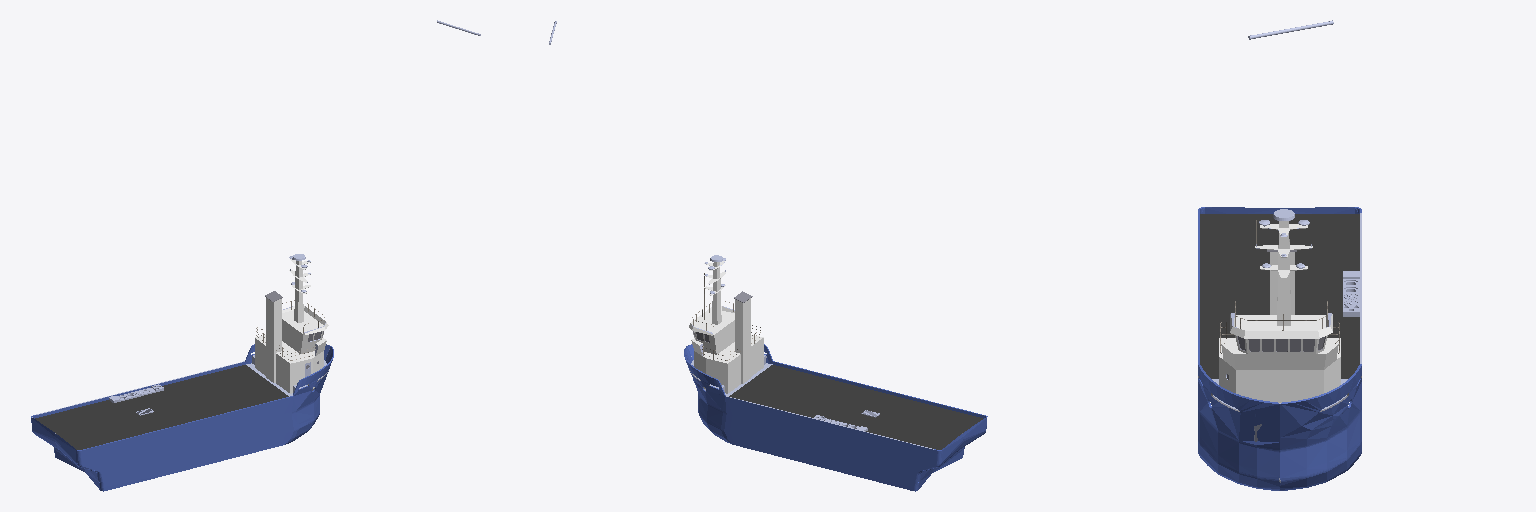
robot.urdf — ship:
<?xml version="1.0" ?>
<robot name="ship" xmlns:xacro="http://ros.org/wiki/xacro">

    <link name="ship_base_link">
        <visual>
            <geometry>
                <mesh filename="package://underwater_sim/models/meshes/ship/ship.dae" scale="0.0025 0.0025 0.0025"/>
            </geometry>
        </visual>

        <collision name="base_link_collision">
            <geometry>
                <mesh filename="package://underwater_sim/models/meshes/ship/ship.dae"/>
            </geometry>
        </collision>
    
        <inertial>
            <mass value="95.78"/>
            <inertia ixx="57.28" ixy="0.00" ixz="-0.23" iyy="57.28" iyz="0.00" izz="6.09"/>
        </inertial>
    </link>
    
    <link name="dummy_link"/>
    
    <joint name="dummy_joint" type="fixed">
        <origin xyz="0 0 0"/>
        <parent link="ship_base_link"/>
        <child link="dummy_link"/>
    </joint>

</robot>

--- What the picture shows (computed from the rendered views, not written in the file) ---
Views: 3 orthographic renders of the robot side by side, from view 1: azimuth 30°, elevation 25°; view 2: azimuth 150°, elevation 25°; view 3: azimuth 270°, elevation 25°.
Model ship with 2 links and 1 joints (1 fixed), rooted at ship_base_link, posed all joints at 0.
Visible links, largest first — view 1: ship_base_link; view 2: ship_base_link; view 3: ship_base_link.
Boxes of the visible links, x1=… form: ship_base_link: x1=31, y1=20, x2=480, y2=491; ship_base_link: x1=549, y1=21, x2=987, y2=491; ship_base_link: x1=1198, y1=20, x2=1361, y2=490.
Bounding box of the posed robot: 54.09 × 10.77 × 43.39 m (x, y, z).
1 mesh visuals loaded from 1 distinct referenced files (1 Collada DAE).